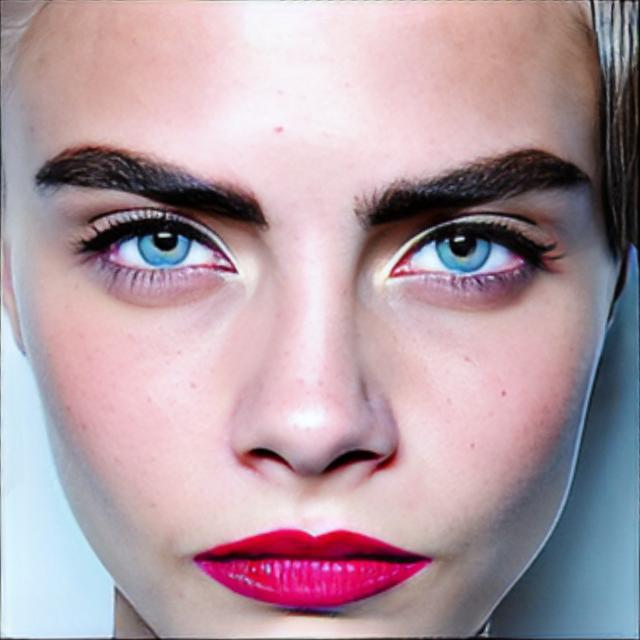anger: (17, 0, 620, 640)
